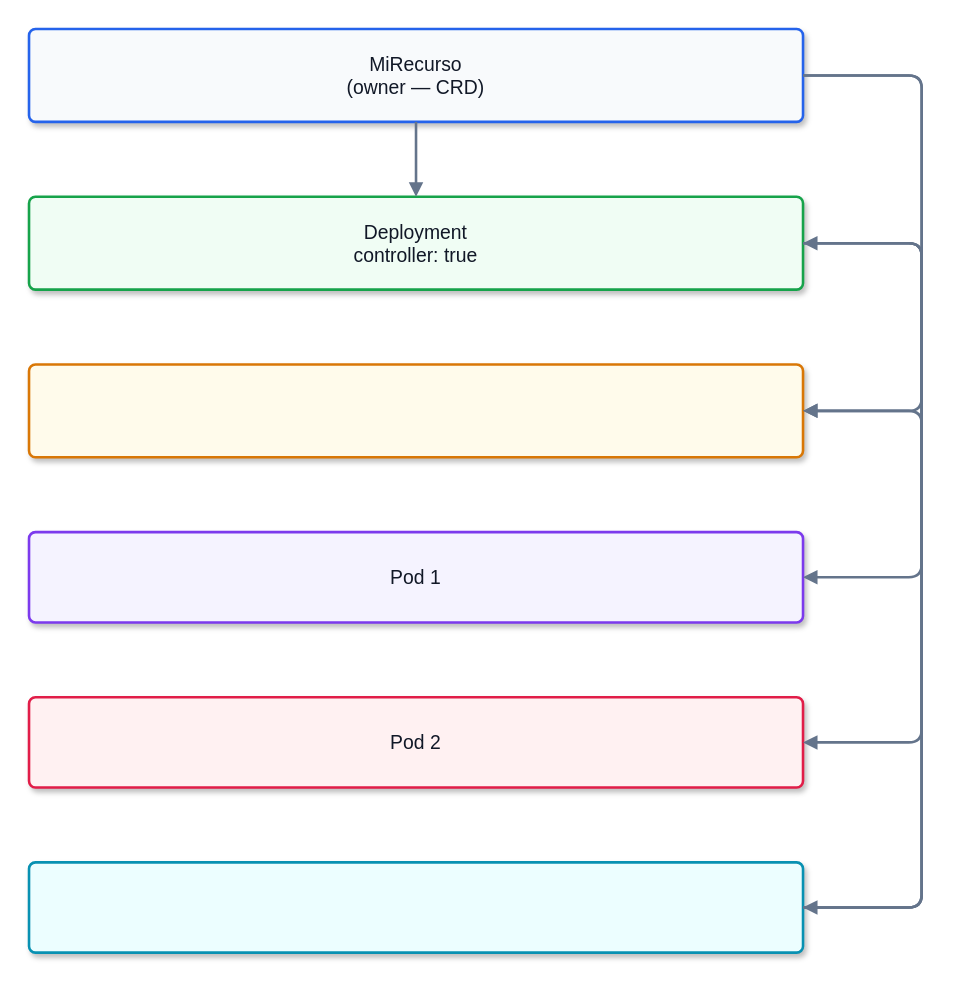
Image size: 955x984. Some labels were removed from this diagram. Each missing label, with the centre of its shape:
"ConfigMap controller: true" goes at (416,412).
"Garbage Collector" goes at (416,908).
